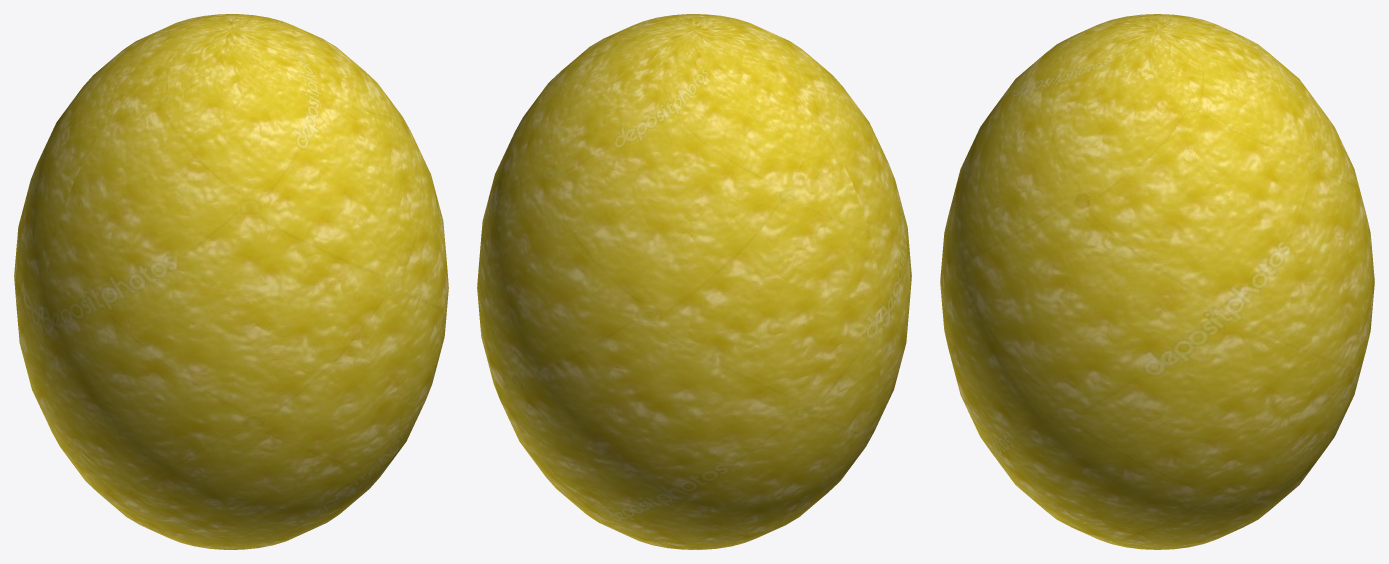
The model's file is lemon 1.fbx.
3 views of the same model, side by side, from view 1: azimuth 30°, elevation 25°; view 2: azimuth 150°, elevation 25°; view 3: azimuth 270°, elevation 25° (orthographic).
Parts seen in each view (by area): view 1: Sphere; view 2: Sphere; view 3: Sphere.
Part boxes in pixels (x1,y1,x2,y2): Sphere: (14,14,448,549); Sphere: (477,14,911,549); Sphere: (940,14,1374,549).
Size of the model in its own units: 63.6 by 81.14 by 63.45.
Materials: 1 (1 with a texture image).
